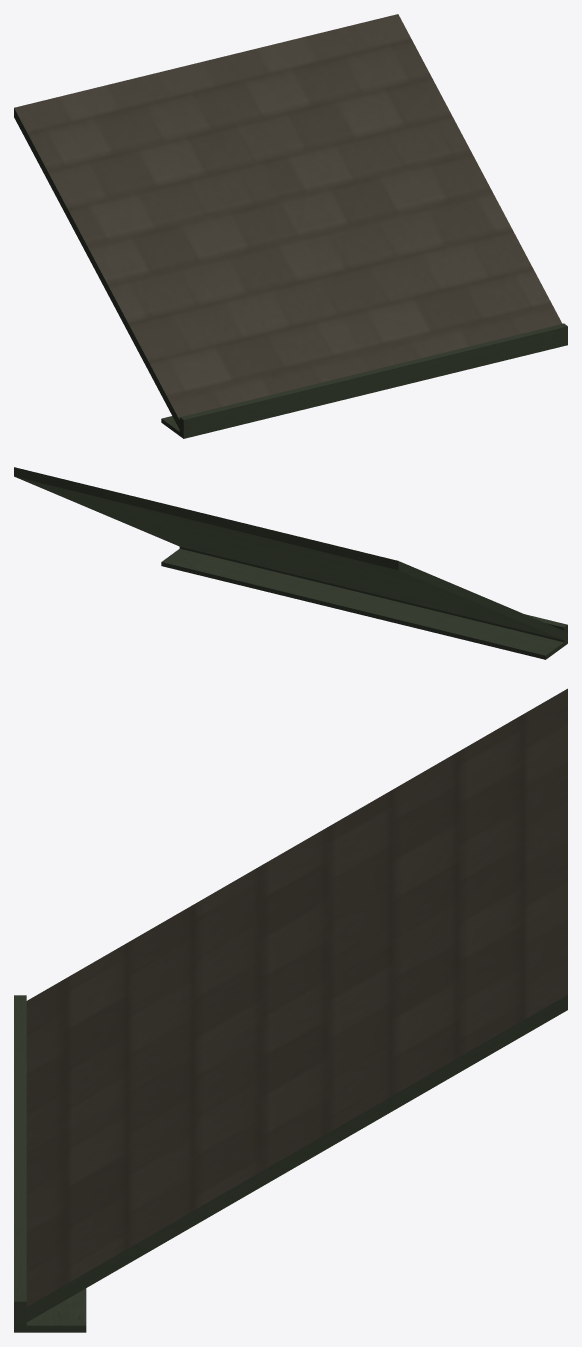
Rendered from house_01_roof_slope.glb.
3 views of the same model, one above another, from view 1: azimuth 30°, elevation 25°; view 2: azimuth 150°, elevation 25°; view 3: azimuth 270°, elevation 25° (orthographic). The views are drawn at different scales.
Parts seen in each view (by area): view 1: outdoor_house_01_roof_slope; view 2: outdoor_house_01_roof_slope; view 3: outdoor_house_01_roof_slope.
Part boxes in pixels (x1=…): outdoor_house_01_roof_slope: x1=14, y1=14, x2=567, y2=438; outdoor_house_01_roof_slope: x1=14, y1=467, x2=567, y2=659; outdoor_house_01_roof_slope: x1=14, y1=688, x2=567, y2=1332.
Size of the model in its own units: 3.4 by 1.75 by 2.6.
1 material, 1 textured.
